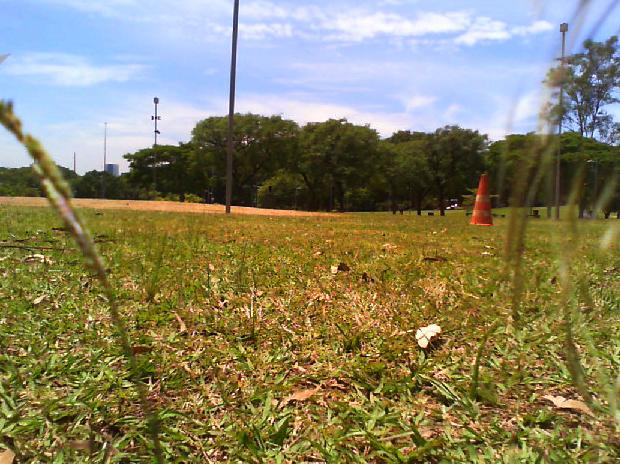0 cone: (469, 174, 495, 228)
